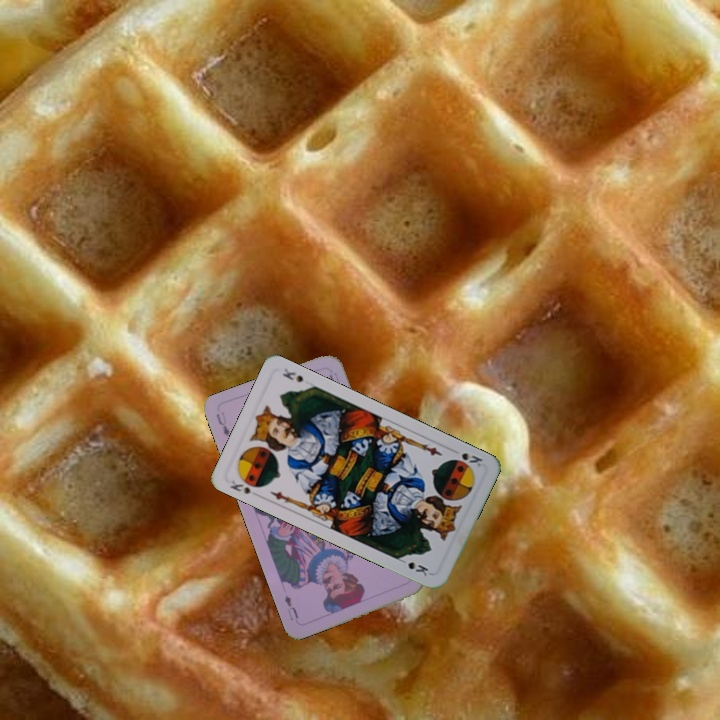EU: (212, 408, 232, 439)
SK: (226, 476, 263, 498), (447, 449, 485, 470)
